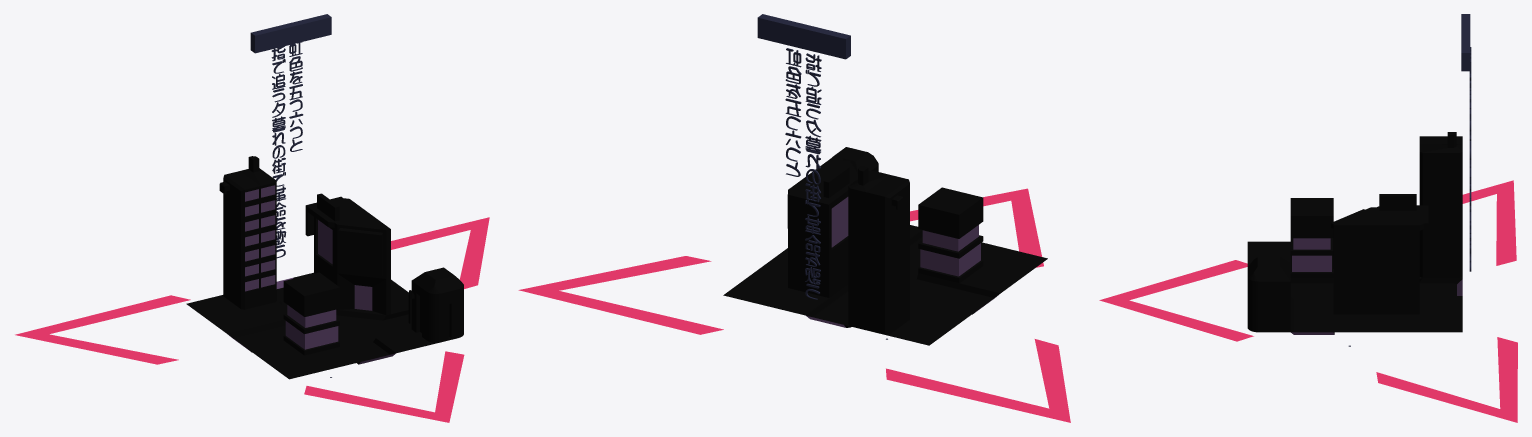
File: City.gltf
The picture shows the model from 3 angles, left to right: view 1: azimuth 30°, elevation 25°; view 2: azimuth 150°, elevation 25°; view 3: azimuth 270°, elevation 25°; orthographic projection. The views are drawn at different scales.
Visible parts, largest first — view 1: Plane, Plane.001, Cube; view 2: Plane, Plane.001, Cube; view 3: Plane, Plane.001, Cube.
Boxes of the visible parts, <box> form: Plane: <box>186,156,463,379</box>; Plane.001: <box>15,217,489,422</box>; Cube: <box>250,14,331,53</box>; Plane: <box>723,147,1047,345</box>; Plane.001: <box>518,188,1070,422</box>; Cube: <box>757,14,850,59</box>; Plane: <box>1247,132,1462,334</box>; Plane.001: <box>1099,180,1517,422</box>; Cube: <box>1461,14,1470,71</box>.
Size of the model in its own units: 5.34 by 3.29 by 3.9.
